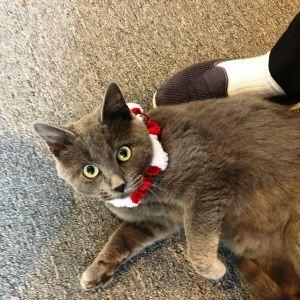rblue: (32, 69, 164, 220)
